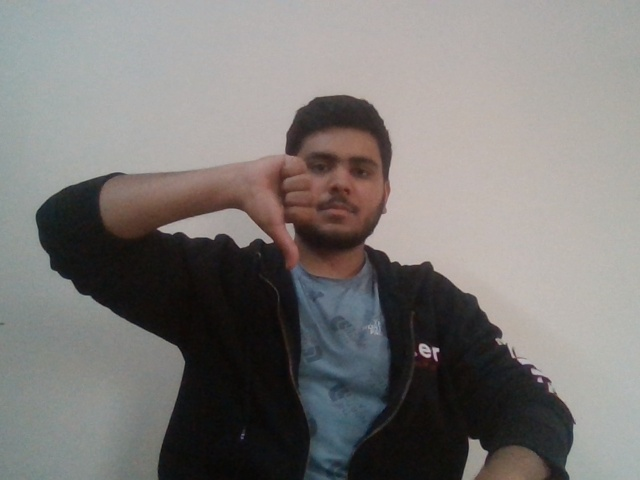No: (237, 146, 319, 277)
